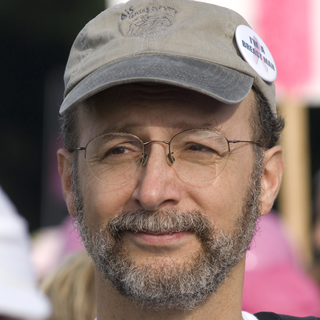eye: (175, 138, 222, 160), (98, 142, 140, 162)
